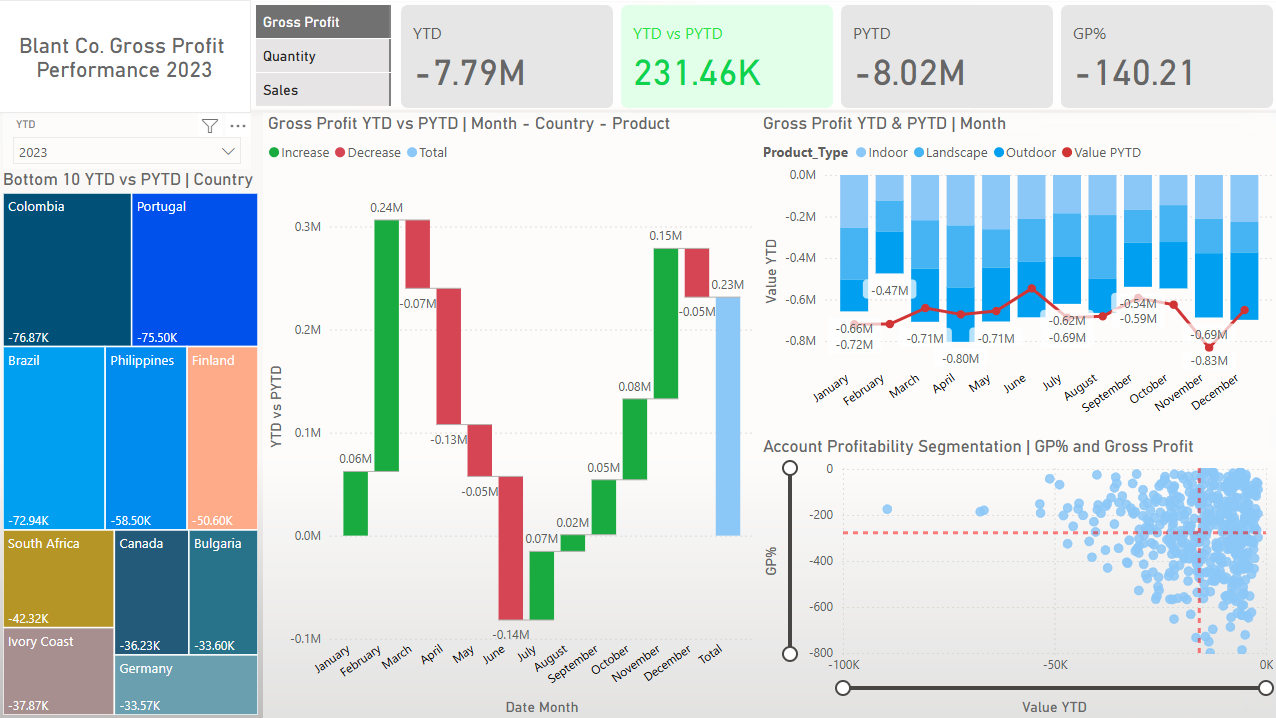

Layout of this report page (visuals, bound fields, positions):
{"tool":"powerbi","page":{"name":"Page 1","canvas":[1280,720],"ordinal":0},"visuals":[{"type":"cardVisual","fields":{"Data":["_Measures.S_YTD","_Measures.YTD vs PYTD","_Measures.S_PYTD","_Measures.GP%"]},"box":[397.5,0,882.5,112.5],"z":0},{"type":"advancedSlicerVisual","fields":{"Values":["Slc_Values.Values"]},"box":[253,0,145,113],"z":1000},{"type":"slicer","fields":{"Values":["Dim_Date.Date.Variation.Date Hierarchy.Year"]},"box":[5,112.5,247.5,56.2],"z":2000},{"type":"treemap","title":"Bottom 10 YTD vs PYTD | Country","fields":{"Group":["Dim_Account.country"],"Values":["_Measures.YTD vs PYTD"]},"box":[0,168.8,265,551.2],"z":3000},{"type":"waterfallChart","fields":{"Y":["_Measures.YTD vs PYTD"],"Category":["Dim_Date.Date.Variation.Date Hierarchy.Month","Dim_Account.country","Dim_Product.Produt_Type","Dim_Product.Product_Name"]},"box":[265,113,495,607],"z":4000},{"type":"lineStackedColumnComboChart","fields":{"Y":["_Measures.S_YTD"],"Y2":["_Measures.S_PYTD"],"Category":["Dim_Date.Date.Variation.Date Hierarchy.Quarter","Dim_Date.Date.Variation.Date Hierarchy.Month"],"Series":["Dim_Product.Produt_Type"]},"box":[760,112.5,520,323.8],"z":5000},{"type":"scatterChart","fields":{"Y":["_Measures.GP%"],"X":["_Measures.S_YTD"],"Category":["Dim_Account.Account"]},"box":[760,436.2,520,283.8],"z":5001},{"type":"card","fields":{"Values":["_Measures._report title"]},"box":[0,0,252.5,112.5],"z":5002}]}

Visuals, with their boxes in screenshot pixels (x1, y1, x2, y2), scaled from the page's 1280x720 canvas onto the 1276x718 screenshot:
cardVisual - _Measures.S_YTD x _Measures.YTD vs PYTD: box=[396, 0, 1275, 112]
advancedSlicerVisual - Slc_Values.Values: box=[252, 0, 397, 113]
slicer - Dim_Date.Date.Variation.Date Hierarchy.Year: box=[5, 112, 252, 168]
"Bottom 10 YTD vs PYTD | Country" treemap: box=[0, 168, 264, 717]
waterfallChart - _Measures.YTD vs PYTD x Dim_Date.Date.Variation.Date Hierarchy.Month: box=[264, 113, 758, 717]
lineStackedColumnComboChart - _Measures.S_YTD x _Measures.S_PYTD: box=[758, 112, 1275, 435]
scatterChart - _Measures.GP% x _Measures.S_YTD: box=[758, 435, 1275, 717]
card - _Measures._report title: box=[0, 0, 252, 112]
